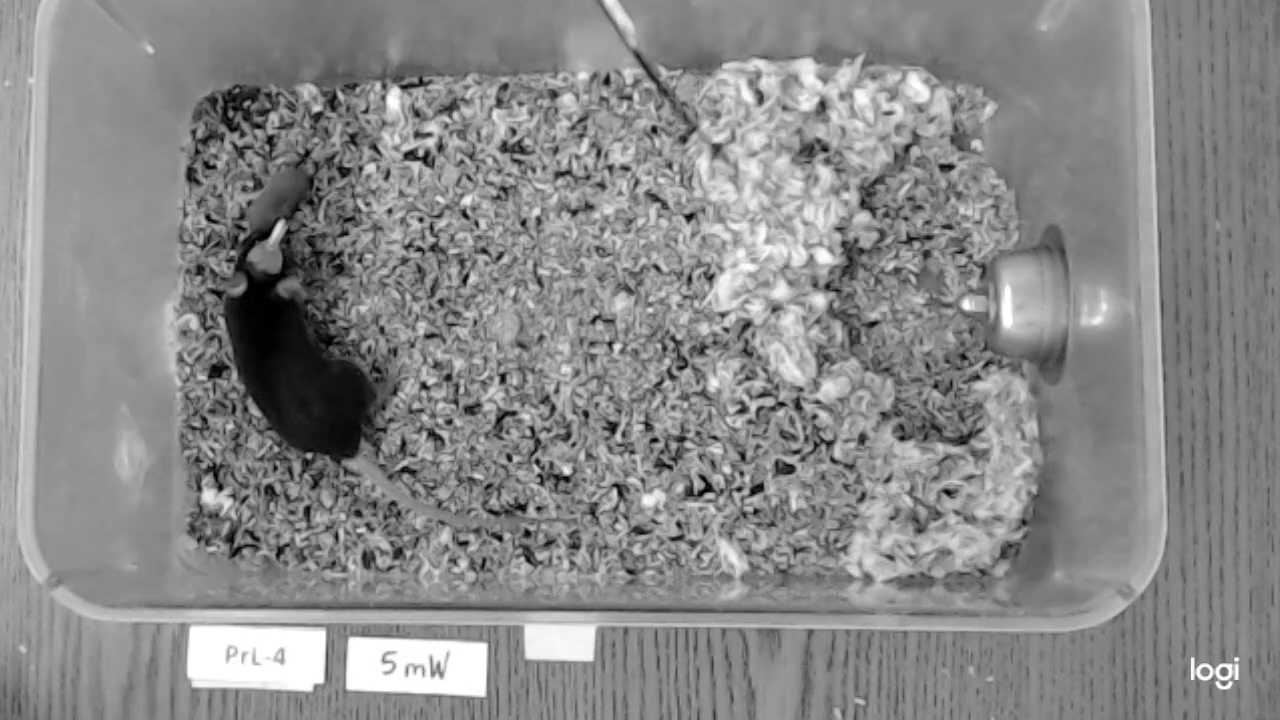child-mice: (247, 165, 307, 227)
